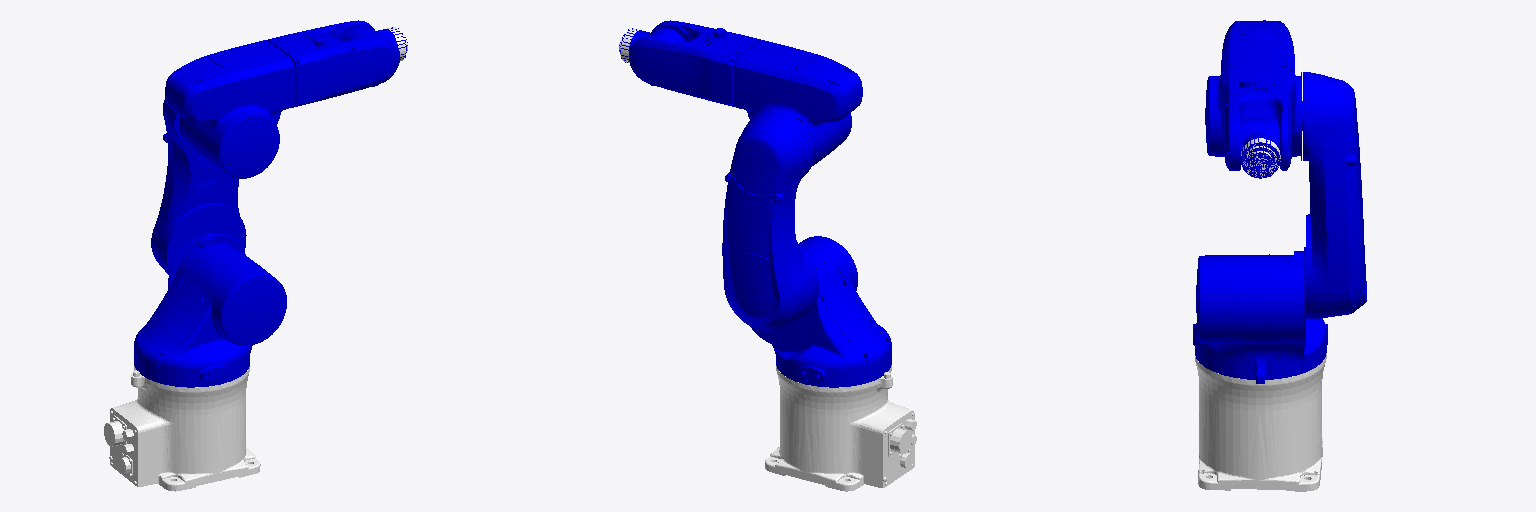
robot.urdf — ADEPT_VIPER_S650:
<robot name="ADEPT_VIPER_S650">
	<link name="Adept_Viper_s650_Link1">
		<visual>
			<origin xyz="0 0 0" rpy="0 0 0"/>
			<geometry>
				<mesh filename="package://adept_common/meshes/visual/STL/binary/Adept_Viper_650_Link1.stl"/>
			</geometry>
			<material name="White">
				<color rgba="255 255 255 1.0"/>
			</material>
		</visual>
		<collision>
			<origin xyz="0 0 0" rpy="0 0 0"/>
			<geometry>
				<mesh filename="package://adept_common/meshes/collision/STL/binary/Adept_Viper_650_Link1.stl"/>
			</geometry>
			<material name="Blue">
				<color rgba="0 0 255 1.0"/>
			</material>
		</collision>
	</link>
	<link name="Adept_Viper_s650_Link2">
		<visual>
			<origin xyz="0 0 0" rpy="0 0 0"/>
			<geometry>
				<mesh filename="package://adept_common/meshes/visual/STL/binary/Adept_Viper_650_Link2.stl"/>
			</geometry>
			<material name="Blue">
				<color rgba="0 0 255 1.0"/>
			</material>
		</visual>
		<collision>
			<origin xyz="0 0 0" rpy="0 0 0"/>
			<geometry>
				<mesh filename="package://adept_common/meshes/collision/STL/binary/Adept_Viper_650_Link2.stl"/>
			</geometry>
			<material name="Blue">
				<color rgba="0 0 255 1.0"/>
			</material>
		</collision>
	</link>	
	<link name="Adept_Viper_s650_Link3">
		<visual>
			<origin xyz="0 0 0" rpy="0 0 0"/>
			<geometry>
				<mesh filename="package://adept_common/meshes/visual/STL/binary/Adept_Viper_650_Link3.stl"/>
			</geometry>
			<material name="Blue">
				<color rgba="0 0 255 1.0"/>
			</material>
		</visual>
		<collision>
			<origin xyz="0 0 0" rpy="0 0 0"/>
			<geometry>
				<mesh filename="package://adept_common/meshes/collision/STL/binary/Adept_Viper_650_Link3.stl"/>
			</geometry>
			<material name="Blue">
				<color rgba="0 0 255 1.0"/>
			</material>
		</collision>
	</link>
	<link name="Adept_Viper_s650_Link4">
		<visual>
			<origin xyz="0 0 0" rpy="0 0 0"/>
			<geometry>
				<mesh filename="package://adept_common/meshes/visual/STL/binary/Adept_Viper_650_Link4.stl"/>
			</geometry>
			<material name="Blue">
				<color rgba="0 0 255 1.0"/>
			</material>
		</visual>
		<collision>
			<origin xyz="0 0 0" rpy="0 0 0"/>
			<geometry>
				<mesh filename="package://adept_common/meshes/collision/STL/binary/Adept_Viper_650_Link4.stl"/>
			</geometry>
			<material name="Blue">
				<color rgba="0 0 255 1.0"/>
			</material>
		</collision>
	</link>
	<link name="Adept_Viper_s650_Link5">
		<visual>
			<origin xyz="0 0 0" rpy="0 0 0"/>
			<geometry>
				<mesh filename="package://adept_common/meshes/visual/STL/binary/Adept_Viper_650_Link5.stl"/>
			</geometry>
			<material name="Blue">
				<color rgba="0 0 255 1.0"/>
			</material>
		</visual>
		<collision>
			<origin xyz="0 0 0" rpy="0 0 0"/>
			<geometry>
				<mesh filename="package://adept_common/meshes/collision/STL/binary/Adept_Viper_650_Link5.stl"/>
			</geometry>
			<material name="Blue">
				<color rgba="0 0 255 1.0"/>
			</material>
		</collision>
	</link>
	<link name="Adept_Viper_s650_Link6">
		<visual>
			<origin xyz="0 0 0" rpy="0 0 0"/>
			<geometry>
				<mesh filename="package://adept_common/meshes/visual/STL/binary/Adept_Viper_650_Link6.stl"/>
			</geometry>
			<material name="Blue">
				<color rgba="0 0 255 1.0"/>
			</material>
		</visual>
		<collision>
			<origin xyz="0 0 0" rpy="0 0 0"/>
			<geometry>
				<mesh filename="package://adept_common/meshes/collision/STL/binary/Adept_Viper_650_Link6.stl"/>
			</geometry>
			<material name="Blue">
				<color rgba="0 0 255 1.0"/>
			</material>
		</collision>
	</link>
	
	<link name="Adept_Viper_650_Interface_Plate">
		<visual>
			<origin xyz="0 0 0" rpy="0 0 0"/>
			<geometry>
				<mesh filename="package://adept_common/meshes/visual/STL/binary/Adept_Viper_650_Interface_Plate.stl"/>
			</geometry>
			<material name="Gray">
				<color rgba="100 100 100 1.0"/>
			</material>
		</visual>
		<collision>
			<origin xyz="0 0 0" rpy="0 0 0"/>
			<geometry>
				<mesh filename="package://adept_common/meshes/collision/STL/binary/Adept_Viper_650_Interface_Plate.stl"/>
			</geometry>
			<material name="Gray">
				<color rgba="100 100 100 1.0"/>
			</material>
		</collision>
	</link>
	<joint name="joint_1" type="revolute">
		<origin xyz="0 0 0.203"/>
		<parent link="Adept_Viper_s650_Link1"/>
		<child link="Adept_Viper_s650_Link2"/>
		<axis xyz="0 0 1"/>
		<limit effort="100" velocity="1.0" lower="-2.9670" upper="2.9670"/>
	</joint>
	<joint name="joint_2" type="revolute">
		<origin xyz="0.074 0 0.18795"/>
		<parent link="Adept_Viper_s650_Link2"/>
		<child link="Adept_Viper_s650_Link3"/>
		<axis xyz="0 1 0"/>
		<limit effort="100" velocity="1.0" lower="-3.31613" upper="0.7854"/>
	</joint>
	<joint name="joint_3" type="revolute">
		<origin xyz="0 0 0.270"/>
		<parent link="Adept_Viper_s650_Link3"/>
		<child link="Adept_Viper_s650_Link4"/>
		<axis xyz="0 1 0"/>
		<limit effort="100" velocity="1.0" lower="-0.50615" upper="4.468053"/>
	</joint>
	<joint name="joint_4" type="revolute">
		<origin xyz="0.295 0 0.090"/>
		<parent link="Adept_Viper_s650_Link4"/>
		<child link="Adept_Viper_s650_Link5"/>
		<axis xyz="1 0 0"/>
		<limit effort="100" velocity="1.0" lower="-3.31613" upper="3.316133"/>
	</joint>
	<joint name="joint_5" type="revolute">
		<origin xyz="0 0 0"/>
		<parent link="Adept_Viper_s650_Link5"/>
		<child link="Adept_Viper_s650_Link6"/>
		<axis xyz="0 1 0"/>
		<limit effort="100" velocity="1.0" lower="-2.0944" upper="2.0944"/>
	</joint>	
	<joint name="joint_6" type="revolute">
		<origin xyz="0.08 0 0"/>
		<parent link="Adept_Viper_s650_Link6"/>
		<child link="Adept_Viper_650_Interface_Plate"/>
		<axis xyz="1 0 0"/>
		<limit effort="100" velocity="1.0" lower="-3.1416" upper="3.1416"/>
	</joint>
</robot>

--- Render facts (derived) ---
3 views of the same robot in one strip: view 1: azimuth 30°, elevation 25°; view 2: azimuth 150°, elevation 25°; view 3: azimuth 270°, elevation 25° (orthographic).
Model ADEPT_VIPER_S650 with 7 links and 6 joints (6 revolute), rooted at Adept_Viper_s650_Link1, posed all joints at 0.
Links seen in each view (by area): view 1: Adept_Viper_s650_Link2, Adept_Viper_s650_Link1, Adept_Viper_s650_Link4, Adept_Viper_s650_Link3, Adept_Viper_s650_Link5, Adept_Viper_s650_Link6; view 2: Adept_Viper_s650_Link3, Adept_Viper_s650_Link1, Adept_Viper_s650_Link2, Adept_Viper_s650_Link4, Adept_Viper_s650_Link5, Adept_Viper_s650_Link6; view 3: Adept_Viper_s650_Link2, Adept_Viper_s650_Link1, Adept_Viper_s650_Link3, Adept_Viper_s650_Link5, Adept_Viper_s650_Link4, Adept_Viper_s650_Link6.
Link boxes in pixels (<box>): Adept_Viper_s650_Link2: <box>134,233,286,387</box>; Adept_Viper_s650_Link1: <box>104,366,260,491</box>; Adept_Viper_s650_Link4: <box>165,40,294,178</box>; Adept_Viper_s650_Link3: <box>151,98,246,274</box>; Adept_Viper_s650_Link5: <box>267,20,399,107</box>; Adept_Viper_s650_Link6: <box>342,26,407,59</box>; Adept_Viper_s650_Link3: <box>722,108,818,330</box>; Adept_Viper_s650_Link1: <box>765,365,916,491</box>; Adept_Viper_s650_Link2: <box>750,236,891,387</box>; Adept_Viper_s650_Link4: <box>734,40,862,175</box>; Adept_Viper_s650_Link5: <box>629,20,761,106</box>; Adept_Viper_s650_Link6: <box>619,28,684,62</box>; Adept_Viper_s650_Link2: <box>1193,247,1327,383</box>; Adept_Viper_s650_Link1: <box>1195,353,1326,491</box>; Adept_Viper_s650_Link3: <box>1294,72,1366,318</box>; Adept_Viper_s650_Link5: <box>1221,66,1295,170</box>; Adept_Viper_s650_Link4: <box>1205,20,1301,160</box>; Adept_Viper_s650_Link6: <box>1241,118,1280,178</box>.
Size in the robot's own frame: 0.6148 by 0.283 by 0.813 metres.
Meshes: 7 distinct files referenced, 7 mesh visuals loaded (7 binary STL).